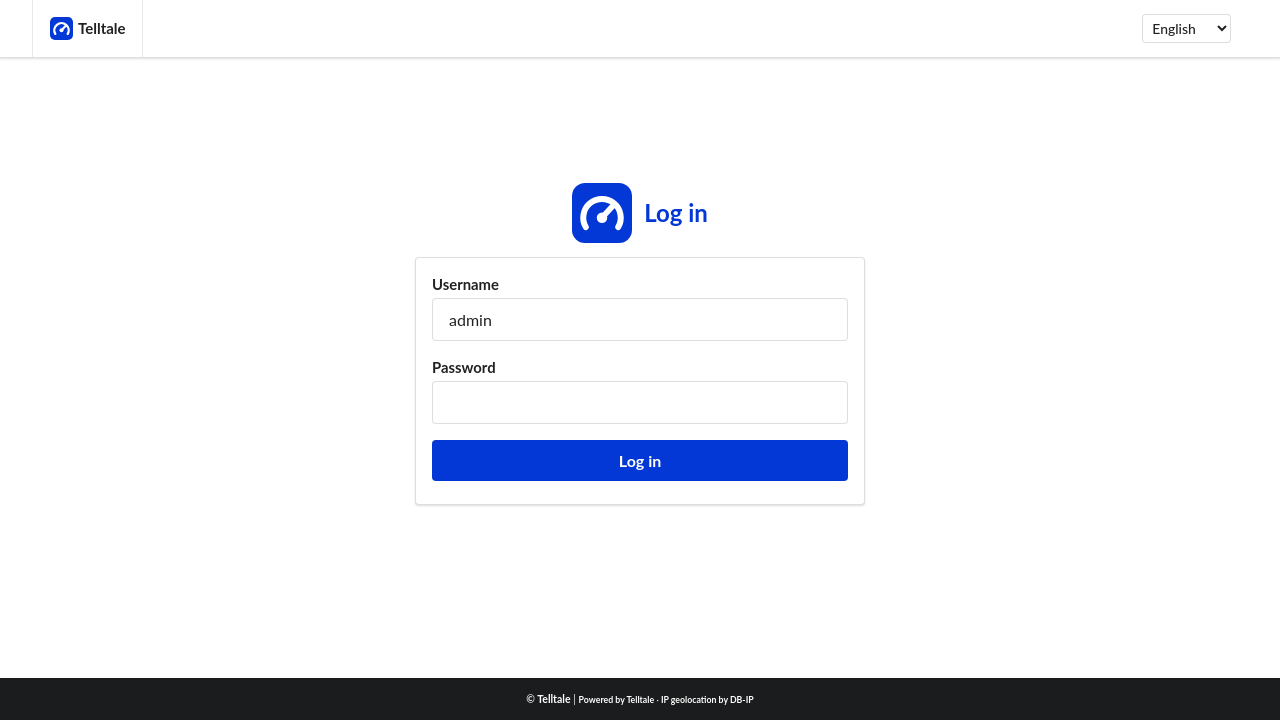
Test case: App › switches to Simplified Chinese and remembers the choice
Expected: the heading "Log in" is shown, [572,183,708,243]
Select "简体中文" in the dropdown named "Language" at (1186, 29), box [1142,14,1231,43]
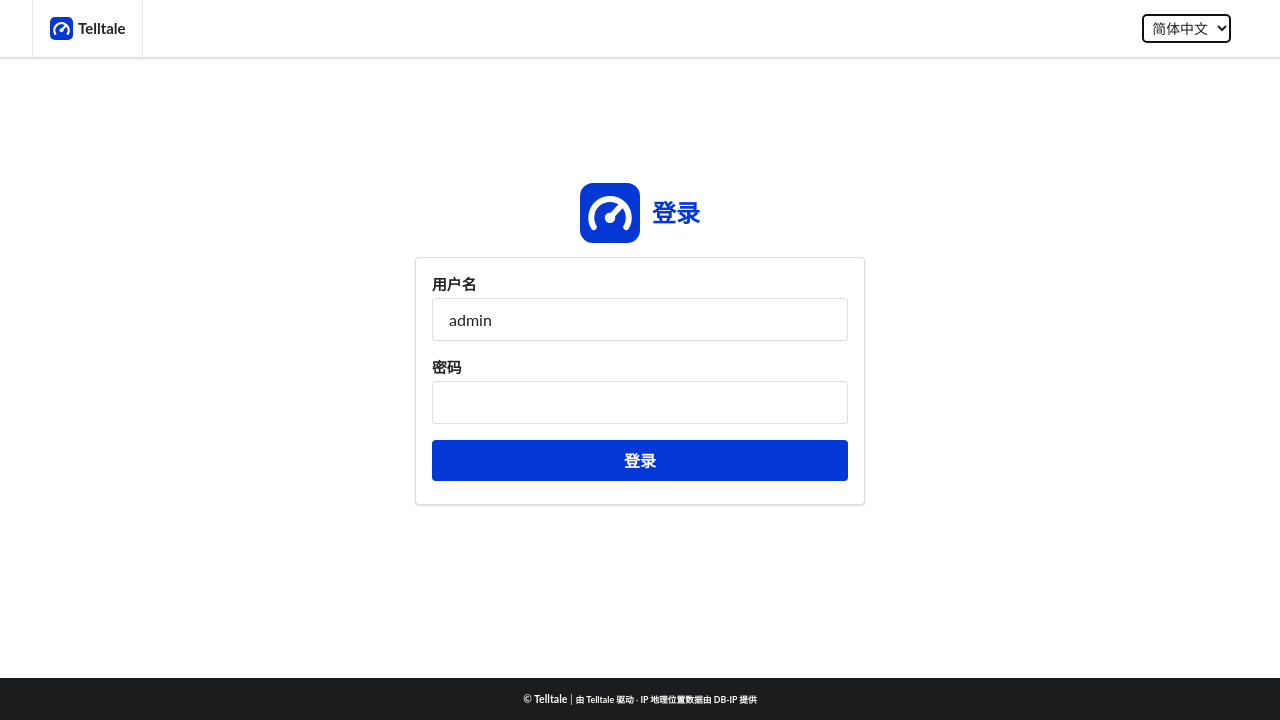
Expected: the heading "登录" is shown, [580,183,700,243]
